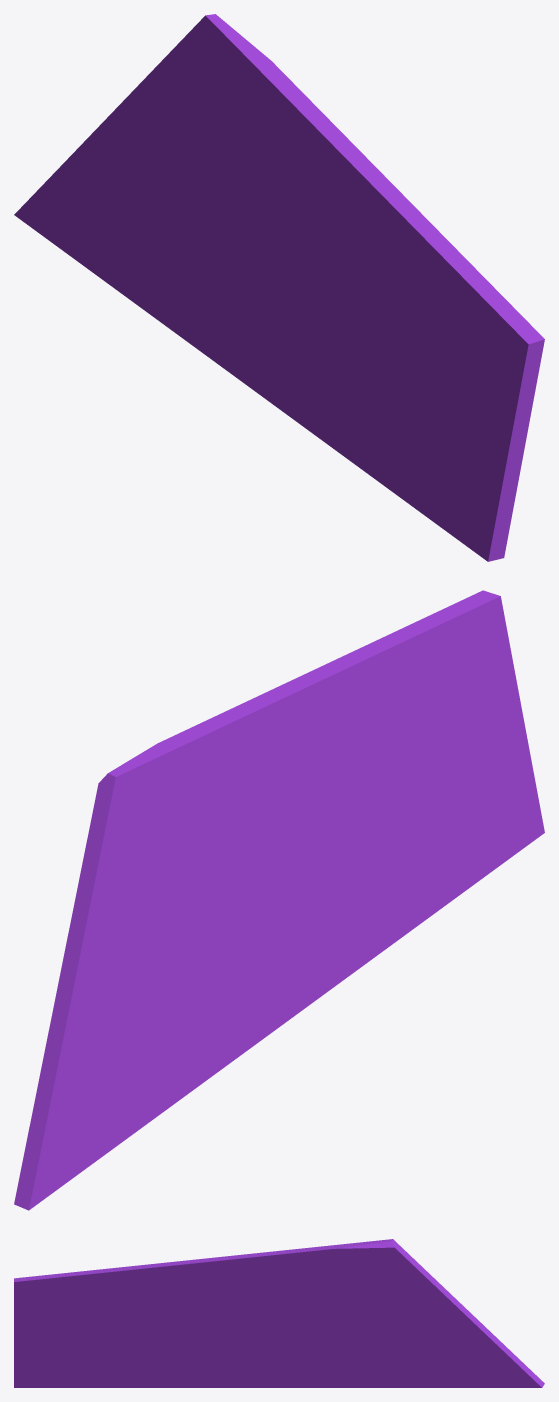
Rendered from Window_3_16_chunks.fbx.
3 renders of one model, top to bottom at view 1: azimuth 30°, elevation 25°; view 2: azimuth 150°, elevation 25°; view 3: azimuth 270°, elevation 25°, orthographic. The views are drawn at different scales.
Parts seen in each view (by area): view 1: Window_3_16_3, Window_3_16_9, Window_3_16_10, Window_3_16_18, Window_3_16_1, Window_3_16_13, Window_3_16_7, Window_3_16_4, Window_3_16_6, Window_3_16_16, Window_3_16_17, Window_3_16_11 (+3 smaller); view 2: Window_3_16_3, Window_3_16_9, Window_3_16_10, Window_3_16_18, Window_3_16_1, Window_3_16_7, Window_3_16_13, Window_3_16_4, Window_3_16_6, Window_3_16_16, Window_3_16_17, Window_3_16_11 (+3 smaller); view 3: Window_3_16_3, Window_3_16_9, Window_3_16_18, Window_3_16_1, Window_3_16_7, Window_3_16_13, Window_3_16_4, Window_3_16_0, Window_3_16_6, Window_3_16_16, Window_3_16_8, Window_3_16_14 (+6 smaller).
Boxes of the visible parts, x1,y1,x2,y2 form: Window_3_16_3: (363, 298, 544, 561); Window_3_16_9: (19, 63, 200, 228); Window_3_16_10: (194, 99, 332, 238); Window_3_16_18: (249, 283, 377, 480); Window_3_16_1: (295, 158, 385, 437); Window_3_16_13: (363, 185, 504, 322); Window_3_16_7: (160, 14, 313, 135); Window_3_16_4: (14, 209, 172, 318); Window_3_16_6: (161, 224, 312, 288); Window_3_16_16: (156, 268, 233, 354); Window_3_16_17: (205, 318, 273, 404); Window_3_16_11: (315, 133, 366, 239); Window_3_16_3: (375, 590, 544, 920); Window_3_16_9: (19, 880, 182, 1198); Window_3_16_10: (155, 709, 270, 967); Window_3_16_18: (262, 853, 424, 1002); Window_3_16_1: (257, 741, 397, 905); Window_3_16_7: (79, 720, 213, 883); Window_3_16_13: (304, 613, 449, 769); Window_3_16_4: (14, 1013, 183, 1210); Window_3_16_6: (154, 836, 301, 1030); Window_3_16_16: (179, 988, 247, 1097); Window_3_16_17: (237, 969, 311, 1057); Window_3_16_11: (253, 701, 325, 759); Window_3_16_3: (14, 1273, 161, 1387); Window_3_16_9: (368, 1274, 540, 1379); Window_3_16_18: (141, 1327, 298, 1387); Window_3_16_1: (160, 1270, 263, 1374); Window_3_16_7: (285, 1239, 429, 1297); Window_3_16_13: (61, 1259, 197, 1314); Window_3_16_4: (383, 1345, 544, 1387); Window_3_16_0: (262, 1268, 399, 1344); Window_3_16_6: (239, 1313, 402, 1359); Window_3_16_16: (294, 1350, 387, 1387); Window_3_16_8: (309, 1270, 375, 1326); Window_3_16_14: (190, 1253, 263, 1286).
Size of the model in its own units: 119 by 460 by 1385.
